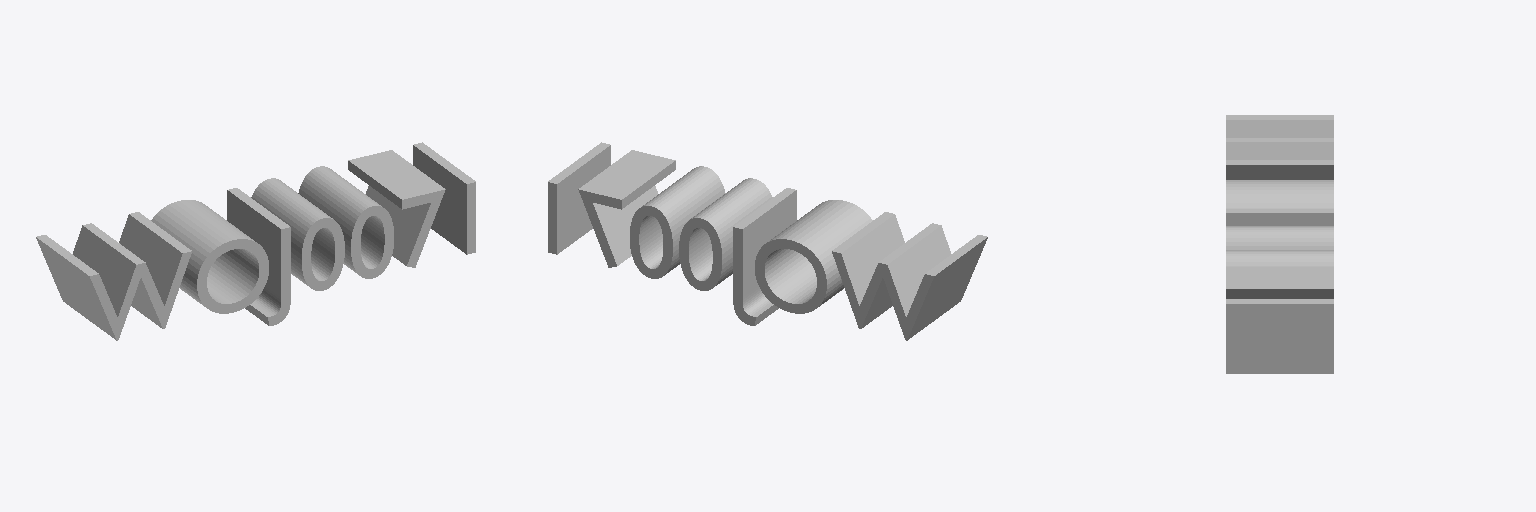
The model's file is login.obj.
3 views of the same model, side by side, from view 1: azimuth 30°, elevation 25°; view 2: azimuth 150°, elevation 25°; view 3: azimuth 270°, elevation 25° (orthographic).
Visible parts, largest first — view 1: Text; view 2: Text; view 3: Text.
Part boxes in pixels (left/top/right/bottom): Text: left=36, top=142, right=475, bottom=340; Text: left=548, top=142, right=987, bottom=340; Text: left=1226, top=115, right=1333, bottom=373.
Bounding box in the file's own units: 3.92 × 0.921 × 0.9457.